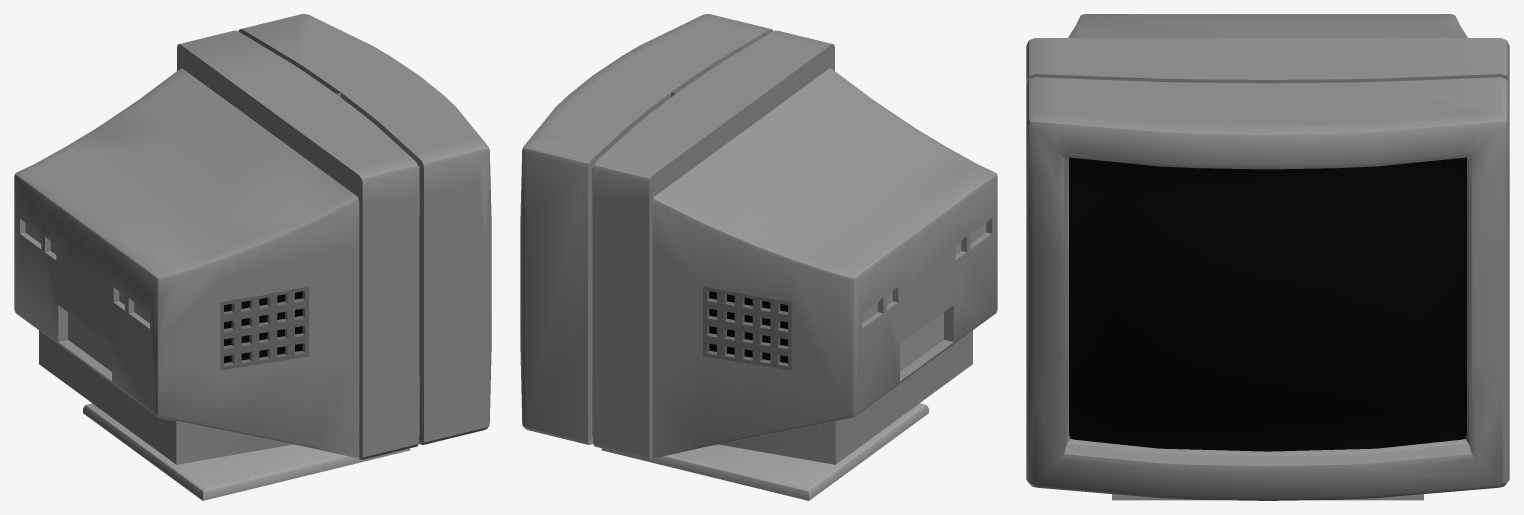
The model's file is monitor-02.glb.
The picture shows the model from 3 angles, left to right: view 1: azimuth 30°, elevation 25°; view 2: azimuth 150°, elevation 25°; view 3: azimuth 270°, elevation 25°; orthographic projection. The views are drawn at different scales.
Visible parts, largest first — view 1: Mesh_Monitor_02; view 2: Mesh_Monitor_02; view 3: Mesh_Monitor_02.
Part boxes in pixels (bbox=[...]): Mesh_Monitor_02: bbox=[14, 14, 491, 500]; Mesh_Monitor_02: bbox=[520, 14, 997, 500]; Mesh_Monitor_02: bbox=[1026, 14, 1509, 500].
Size of the model in its own units: 0.6311 by 0.5629 by 0.5993.
1 material, 1 textured.
